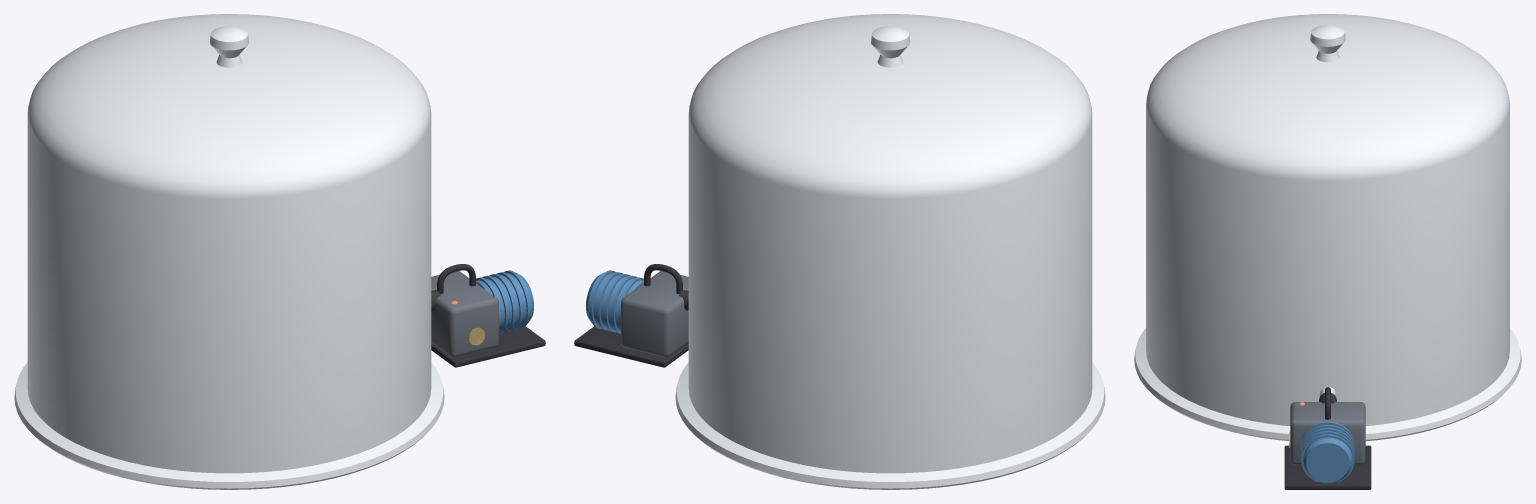
The model's file is labware.glb.
3 views of the same model, side by side, from view 1: azimuth 30°, elevation 25°; view 2: azimuth 150°, elevation 25°; view 3: azimuth 270°, elevation 25° (orthographic). The views are drawn at different scales.
Parts seen in each view (by area): view 1: jar.glass, pump.body, pump.feet, pump.fins, pump.motor, jar.knob; view 2: jar.glass, pump.body, pump.feet, pump.fins, pump.motor, jar.knob; view 3: jar.glass, pump.body, pump.motor, pump.feet, pump.fins, jar.knob.
Part boxes in pixels (bbox=[...]): jar.glass: bbox=[14, 14, 444, 489]; pump.body: bbox=[431, 271, 498, 357]; pump.feet: bbox=[431, 326, 545, 367]; pump.fins: bbox=[476, 270, 529, 333]; pump.motor: bbox=[476, 272, 533, 330]; jar.knob: bbox=[209, 26, 248, 67]; jar.glass: bbox=[675, 14, 1105, 489]; pump.body: bbox=[621, 271, 688, 357]; pump.feet: bbox=[574, 326, 688, 367]; pump.fins: bbox=[590, 270, 643, 333]; pump.motor: bbox=[586, 272, 643, 330]; jar.knob: bbox=[871, 26, 910, 67]; jar.glass: bbox=[1134, 14, 1521, 441]; pump.body: bbox=[1290, 402, 1365, 464]; pump.motor: bbox=[1303, 424, 1352, 483]; pump.feet: bbox=[1284, 445, 1371, 489]; pump.fins: bbox=[1301, 421, 1354, 481]; jar.knob: bbox=[1310, 25, 1345, 62].
Size of the model in its own units: 25.2 by 20.6 by 19.6.
